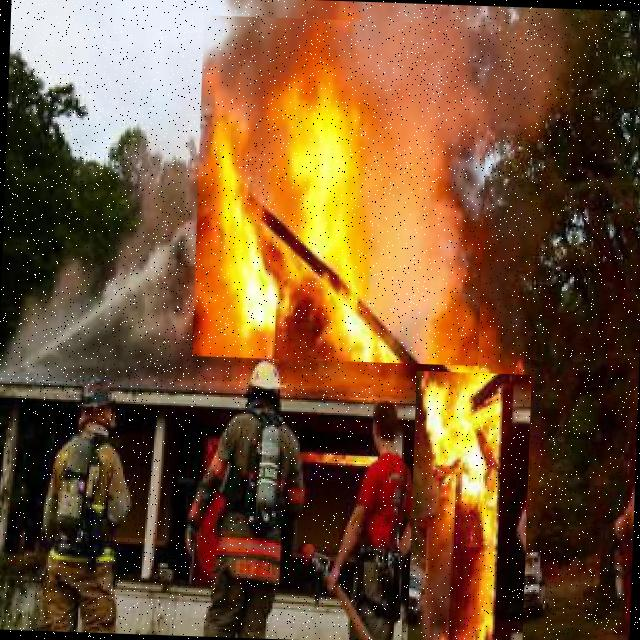fire: (192, 14, 489, 366), (407, 370, 531, 640)
